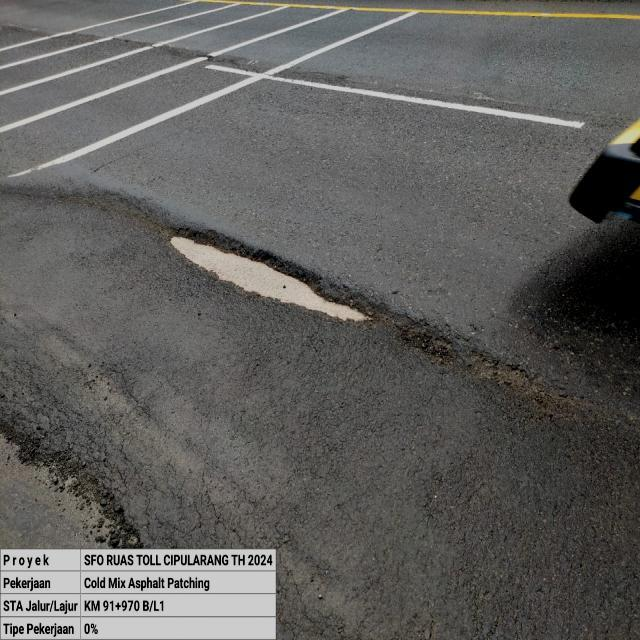Buraco: (156, 224, 384, 332)
